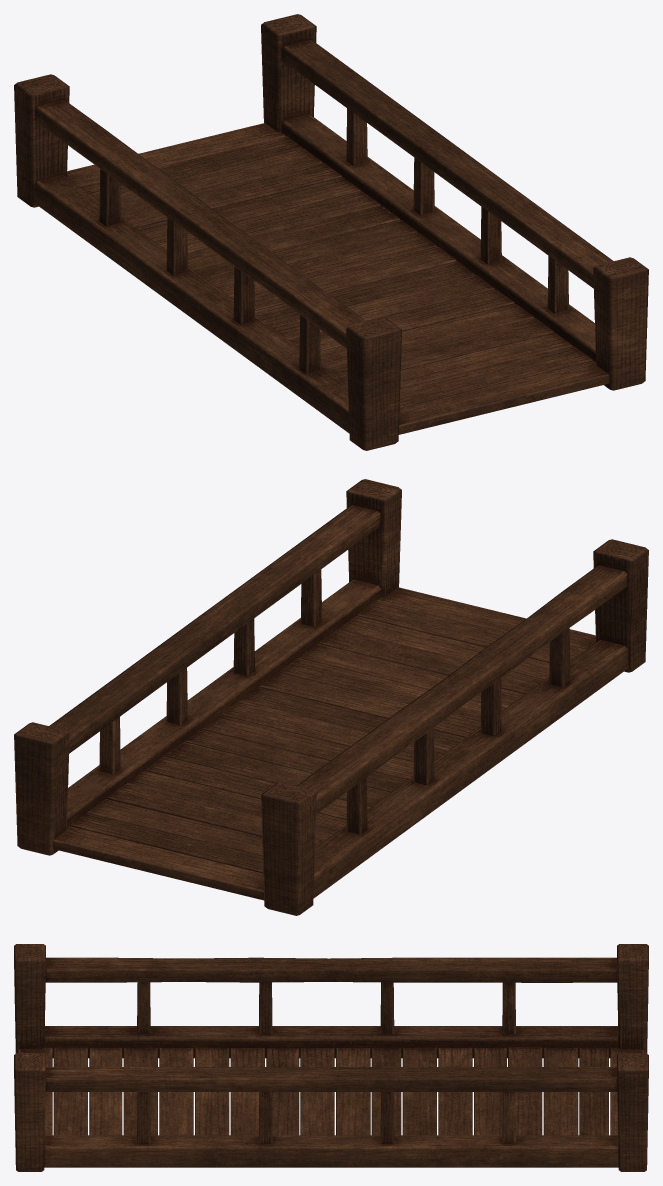
File: simple_wooden_bridge.glb
The picture shows the model from 3 angles, top to bottom: view 1: azimuth 30°, elevation 25°; view 2: azimuth 150°, elevation 25°; view 3: azimuth 270°, elevation 25°; orthographic projection. The views are drawn at different scales.
Visible parts, largest first — view 1: g (×34); view 2: g (×34); view 3: g (×34).
Part boxes in pixels (<box>): g (×34): <box>14,14,648,450</box>; g (×34): <box>14,479,648,915</box>; g (×34): <box>14,944,648,1171</box>.
Bounding box in the file's own units: 0.948 × 0.364 × 2.
1 material, 1 textured.
